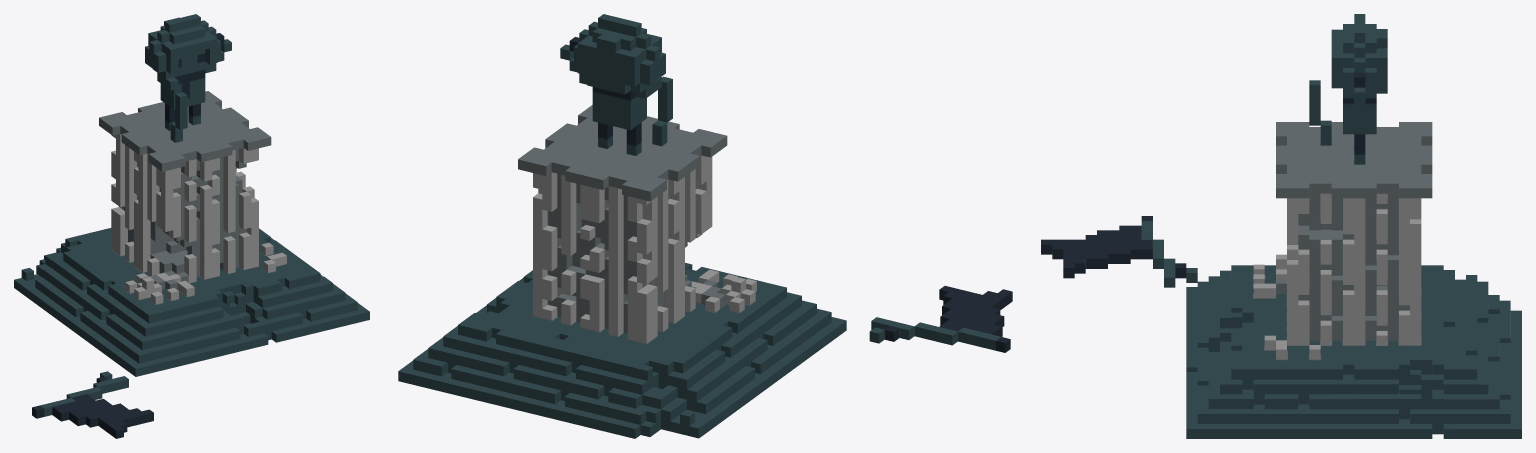
File: statue_damaged.glb
The picture shows the model from 3 angles, left to right: view 1: azimuth 30°, elevation 25°; view 2: azimuth 150°, elevation 25°; view 3: azimuth 270°, elevation 25°; orthographic projection. The views are drawn at different scales.
Parts seen in each view (by area): view 1: statue_damaged; view 2: statue_damaged; view 3: statue_damaged.
Part boxes in pixels (left/top/right/bottom): statue_damaged: left=14, top=14, right=369, bottom=438; statue_damaged: left=398, top=14, right=1012, bottom=438; statue_damaged: left=1041, top=14, right=1521, bottom=438.
Bounding box in the file's own units: 4.5 × 3.4 × 4.3.
1 material, 1 textured.
